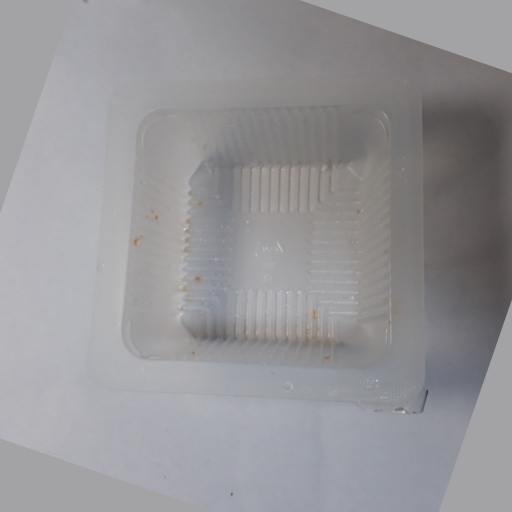Plastic_4: (87, 79, 427, 414)
